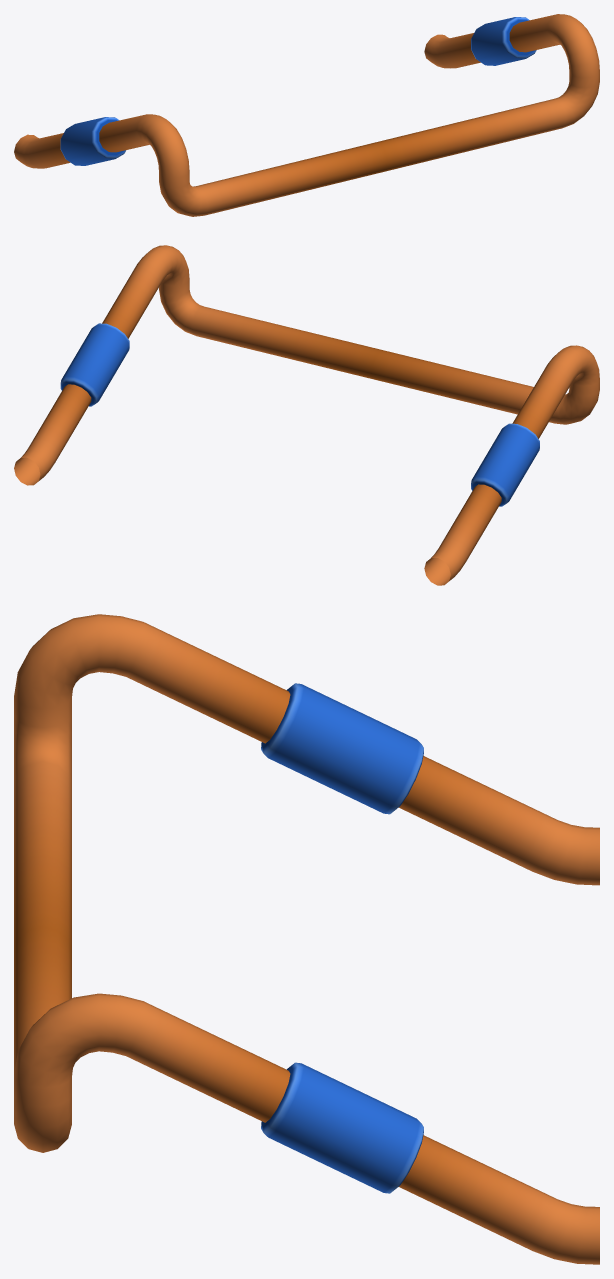
File: pipeup_001.fbx
The picture shows the model from 3 angles, top to bottom: view 1: azimuth 30°, elevation 25°; view 2: azimuth 150°, elevation 25°; view 3: azimuth 270°, elevation 25°; orthographic projection. The views are drawn at different scales.
Visible parts, largest first — view 1: pipeup_001; view 2: pipeup_001; view 3: pipeup_001.
Part boxes in pixels (x1=…): pipeup_001: x1=14, y1=14, x2=599, y2=216; pipeup_001: x1=14, y1=245, x2=599, y2=585; pipeup_001: x1=14, y1=614, x2=599, y2=1264.
Bounding box in the file's own units: 2641 × 1580 × 792.
